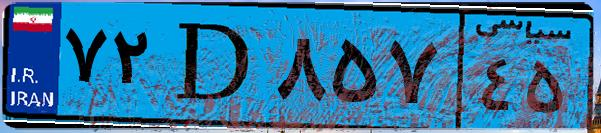2: (110, 28, 158, 98)
4: (475, 38, 525, 113)
5: (330, 28, 385, 110), (525, 38, 570, 115)
7: (385, 28, 445, 110), (57, 26, 110, 100)
8: (270, 28, 330, 110)
D: (158, 12, 270, 120)
